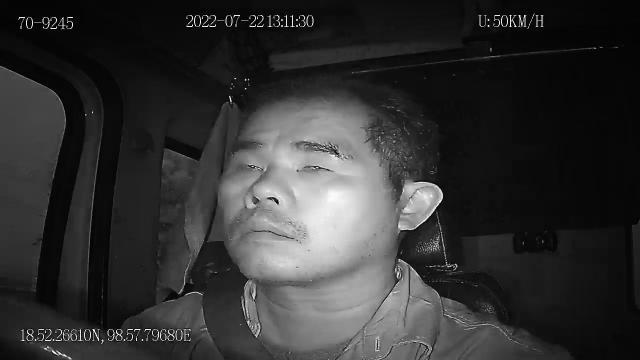SafeDriving: (290, 148, 344, 182), (228, 146, 270, 182)
Seatbelt: (200, 270, 276, 360)
